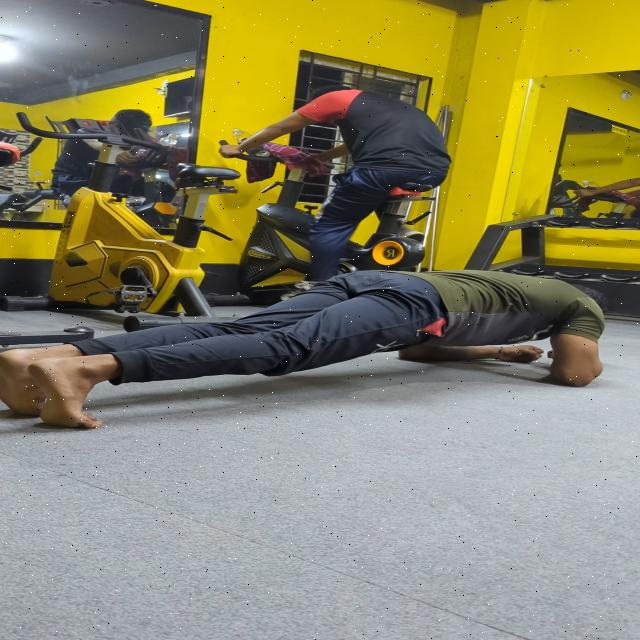Normal_Plunk: (0, 242, 605, 475)
